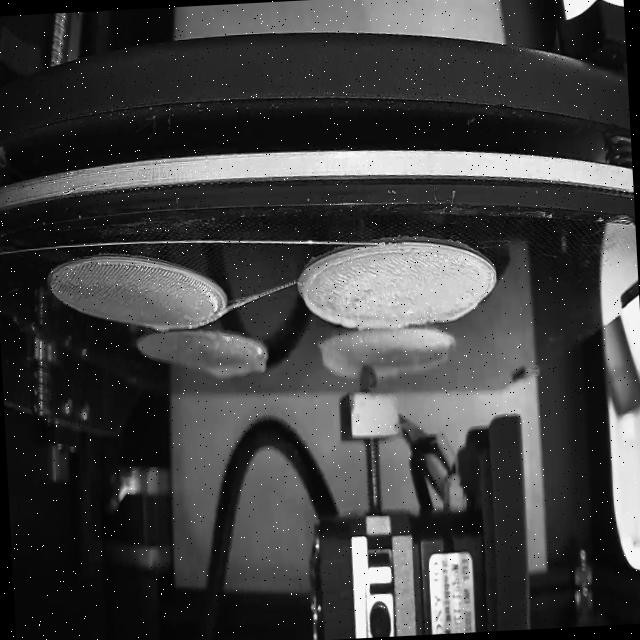over_extrusion: (298, 246, 394, 332), (207, 350, 274, 383), (317, 339, 364, 380), (435, 300, 479, 329), (149, 320, 174, 338), (379, 364, 402, 383)
